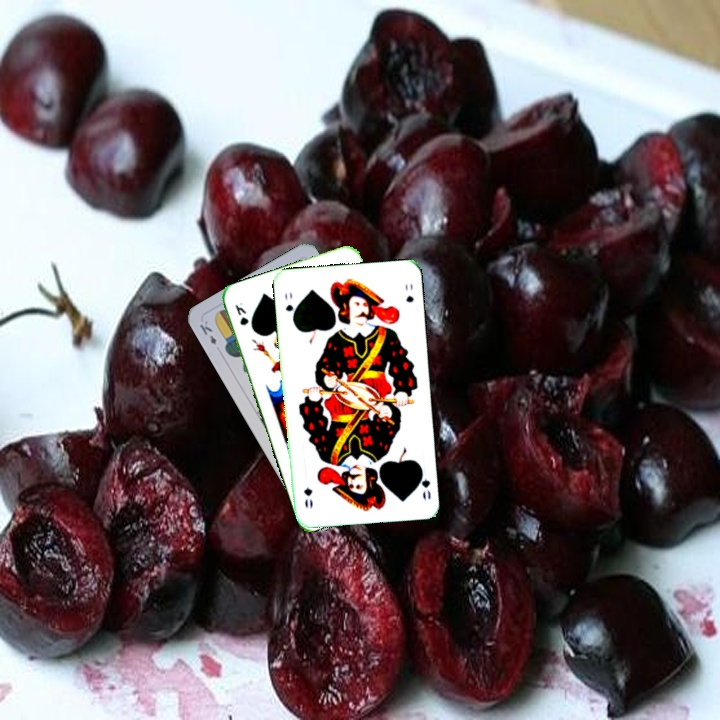EK: (195, 316, 219, 347)
GK: (231, 299, 251, 328)
GO: (413, 463, 433, 503), (281, 289, 298, 324)
